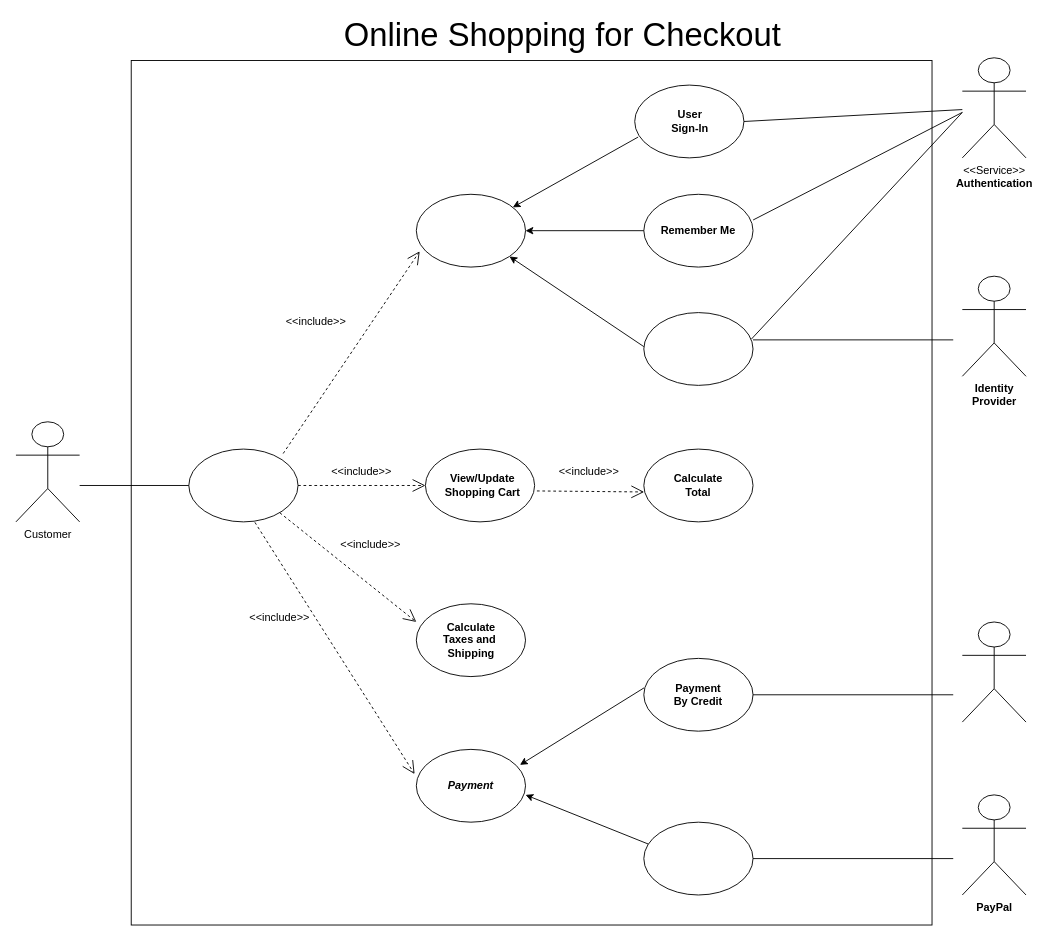
Some shapes in this 1054 by 941 pixel diagram are drawn without their labels. Here are the shapes that lost their labels. From the top down, the box of each, then its label:
(415, 193, 526, 267): Customer Authentication
(643, 312, 753, 385): Single Sing-On
(188, 448, 298, 522): Checkout
(961, 621, 1026, 722): Credit Payment Service
(643, 821, 753, 895): Payment By PayPal
